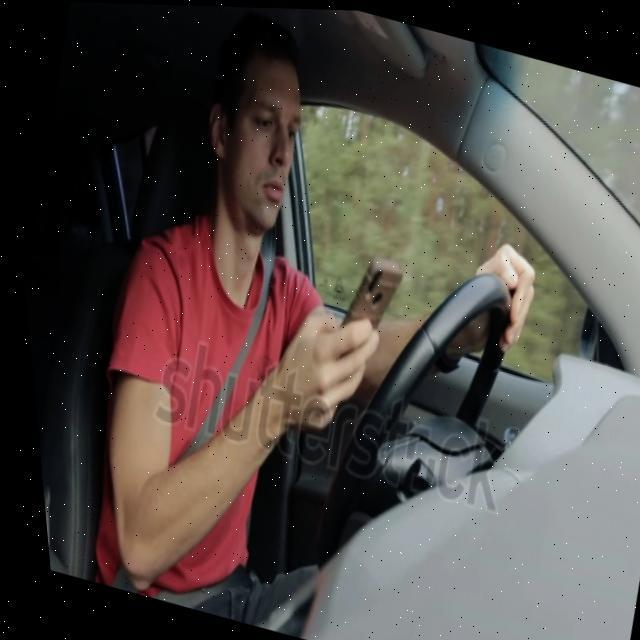PhoneCall: (329, 245, 404, 338)
